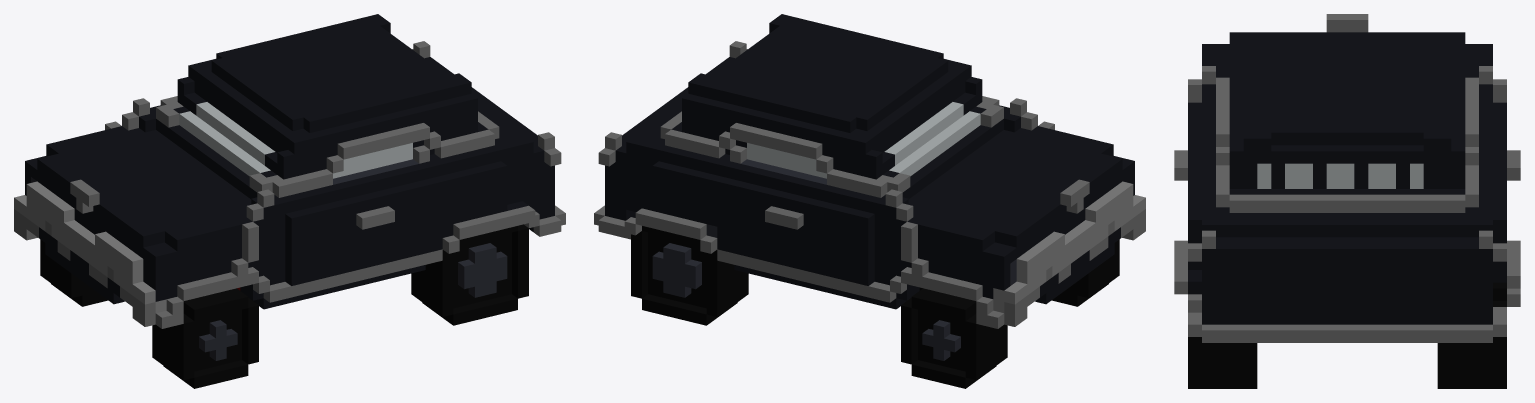
The model's file is Car_002.obj.
3 renders of one model, left to right at view 1: azimuth 30°, elevation 25°; view 2: azimuth 150°, elevation 25°; view 3: azimuth 270°, elevation 25°, orthographic. The views are drawn at different scales.
Size of the model in its own units: 3.9 by 1.9 by 2.5.
1 material, 1 textured.
